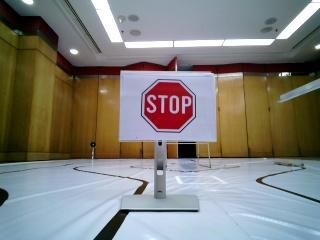stop: (133, 73, 201, 136)
